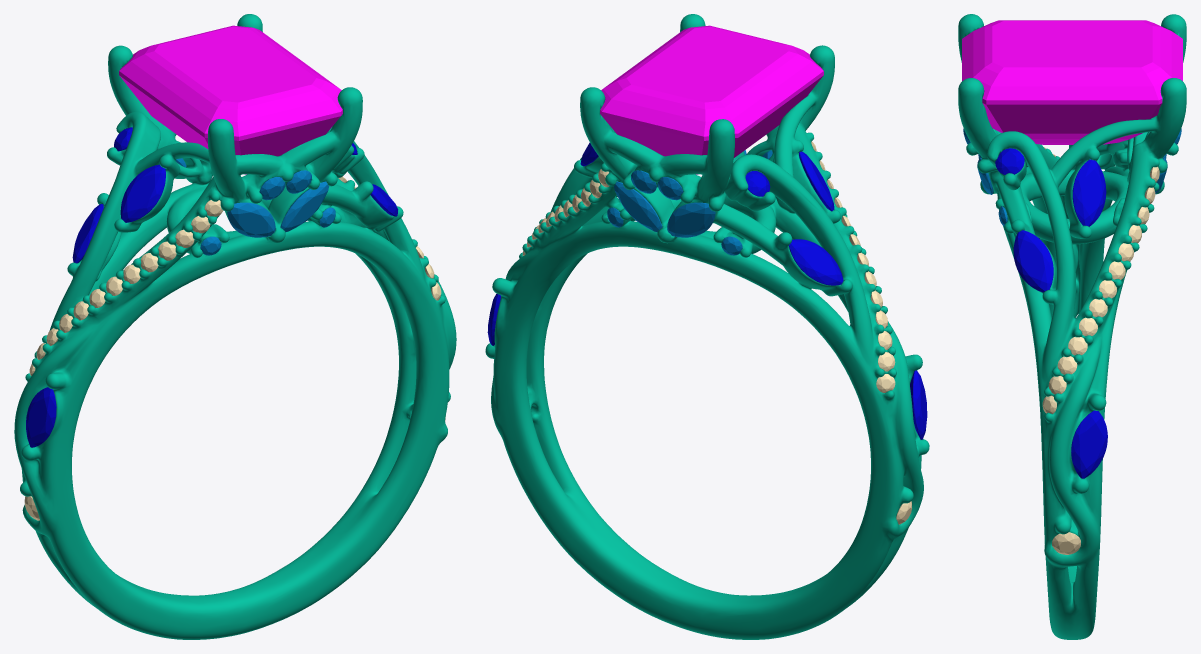
Rendered from BE1D3737_EM_200ct_RENDER.glb.
3 views of the same model, side by side, from view 1: azimuth 30°, elevation 25°; view 2: azimuth 150°, elevation 25°; view 3: azimuth 270°, elevation 25° (orthographic).
Parts seen in each view (by area): view 1: Metal 01, CS_Diamond_Emerald, Diamond_Marquise_side.004, Diamond_Marquise_side.003, Diamond_Marquise_Gem_HD.003, Diamond_Marquise_Gem_HD.002, Diamond_Marquise_side.001; view 2: Metal 01, CS_Diamond_Emerald, Diamond_Marquise_side.001, Diamond_Marquise_Gem_HD, Diamond_Marquise_Gem_HD.001, Diamond_Marquise_side.003, Diamond_Marquise_side.004; view 3: Metal 01, CS_Diamond_Emerald, Diamond_Marquise_side, Diamond_Marquise_side.002, Diamond_Marquise_side.005, Diamond_Round_side, Diamond_Round_Gem_SH.
Boxes of the visible parts, x1,y1,x2,y2 form: Metal 01: [14, 14, 456, 639]; CS_Diamond_Emerald: [119, 25, 342, 174]; Diamond_Marquise_side.004: [120, 164, 165, 222]; Diamond_Marquise_side.003: [26, 387, 56, 447]; Diamond_Marquise_Gem_HD.003: [227, 202, 275, 237]; Diamond_Marquise_Gem_HD.002: [280, 181, 329, 232]; Diamond_Marquise_side.001: [72, 204, 103, 263]; Metal 01: [485, 14, 929, 639]; CS_Diamond_Emerald: [600, 25, 823, 174]; Diamond_Marquise_side.001: [788, 239, 843, 285]; Diamond_Marquise_Gem_HD: [667, 202, 715, 237]; Diamond_Marquise_Gem_HD.001: [614, 181, 662, 232]; Diamond_Marquise_side.003: [910, 370, 927, 439]; Diamond_Marquise_side.004: [799, 151, 834, 211]; Metal 01: [958, 14, 1186, 639]; CS_Diamond_Emerald: [962, 20, 1182, 144]; Diamond_Marquise_side: [1013, 230, 1053, 292]; Diamond_Marquise_side.002: [1071, 410, 1107, 478]; Diamond_Marquise_side.005: [1072, 159, 1106, 226]; Diamond_Round_side: [995, 148, 1024, 174]; Diamond_Round_Gem_SH: [1052, 532, 1080, 554].
Bounding box in the file's own units: 20.62 × 25.79 × 9.31.
